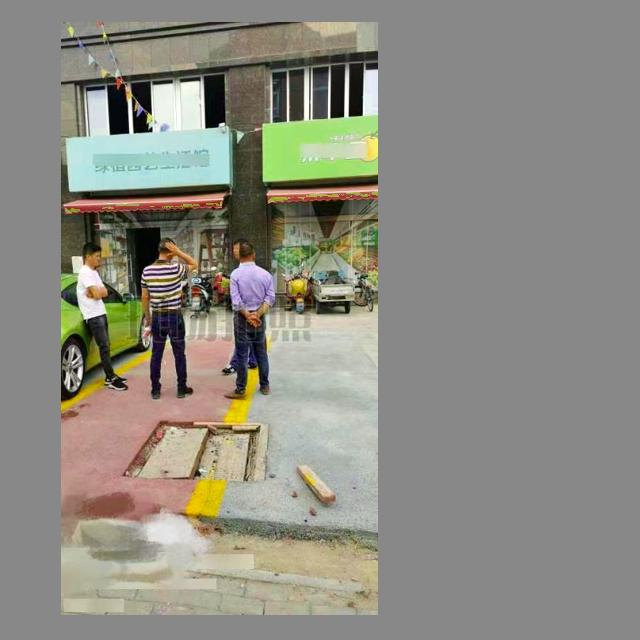circle: (128, 421, 268, 484)
